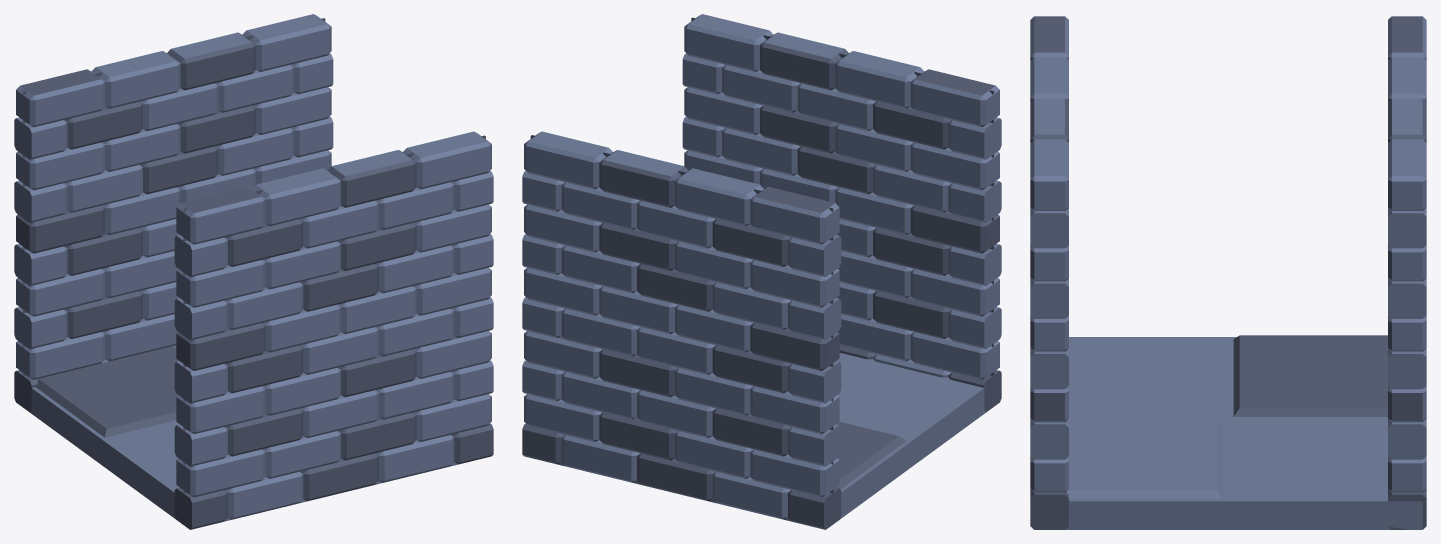
File: corridor.fbx
3 renders of one model, left to right at view 1: azimuth 30°, elevation 25°; view 2: azimuth 150°, elevation 25°; view 3: azimuth 270°, elevation 25°, orthographic. The views are drawn at different scales.
Visible parts, largest first — view 1: brick wall.011; view 2: brick wall.011; view 3: brick wall.011.
Boxes of the visible parts, x1=… form: brick wall.011: x1=14, y1=14, x2=493, y2=529; brick wall.011: x1=522, y1=14, x2=1001, y2=529; brick wall.011: x1=1030, y1=16, x2=1426, y2=529.
Size of the model in its own units: 100 by 102 by 100.
